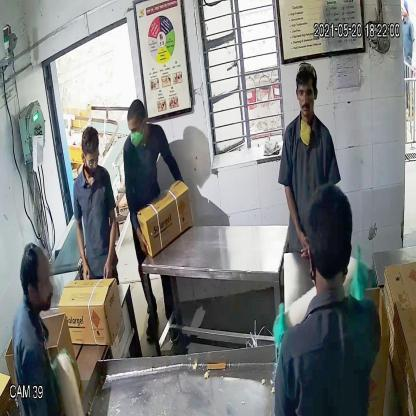goggles: (81, 151, 101, 169)
no_goggles: (293, 82, 320, 102)
